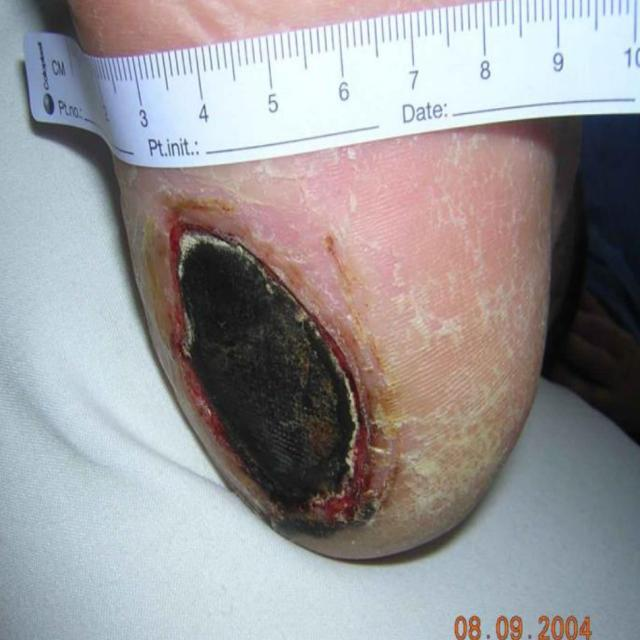Unstageable: (176, 229, 390, 532)
